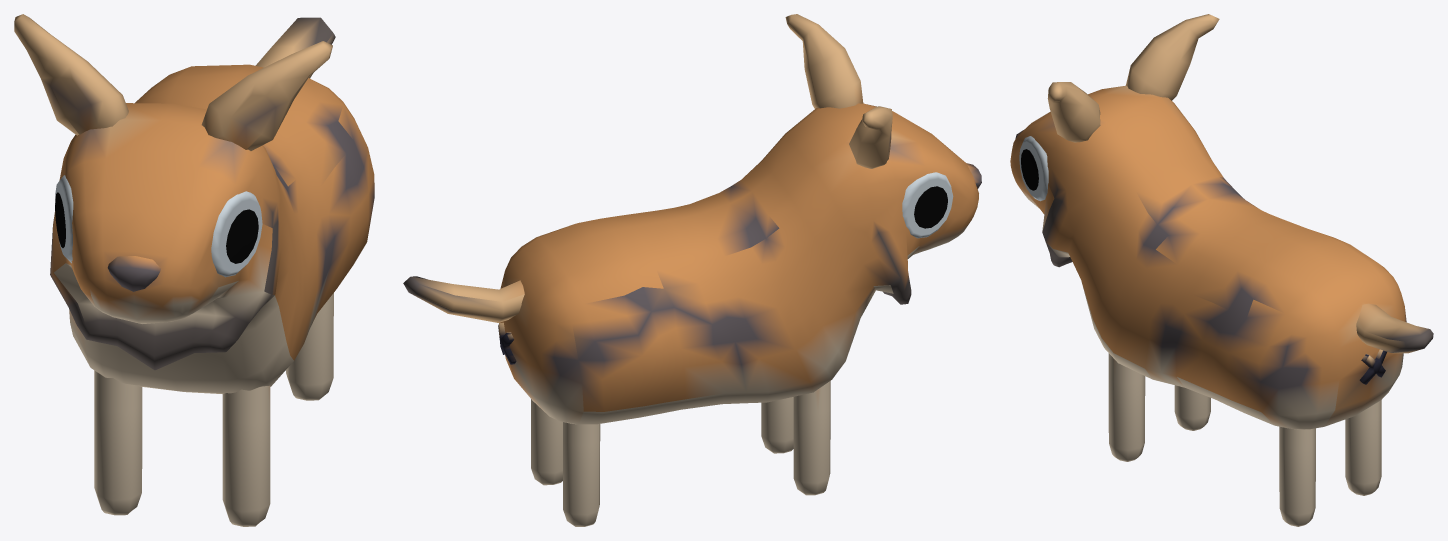
Rendered from Lynx.glb.
The picture shows the model from 3 angles, left to right: view 1: azimuth 30°, elevation 25°; view 2: azimuth 150°, elevation 25°; view 3: azimuth 270°, elevation 25°; orthographic projection. The views are drawn at different scales.
Visible parts, largest first — view 1: 95; view 2: 95; view 3: 95.
Boxes of the visible parts, bbox=[...] form: 95: bbox=[14, 14, 374, 526]; 95: bbox=[403, 14, 981, 526]; 95: bbox=[1010, 14, 1433, 526].
Size of the model in its own units: 0.834 by 0.8423 by 0.8473.
